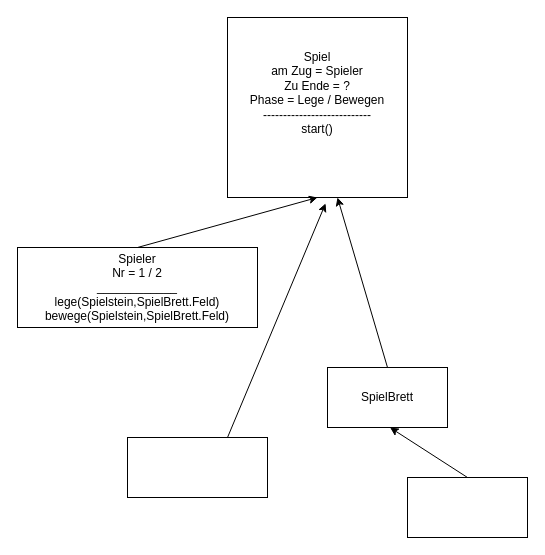
The diagram is 545 pixels wide and 555 high, and some of its shapes have lost their labels. Here are the shapes that lost their labels. From the top down, the centre of each, then its label:
(x=197, y=467): Spielsteine gehört zu = Spieler Im Spiel = ?
(x=467, y=507): Feld Belegt = ? Nummer = ?
